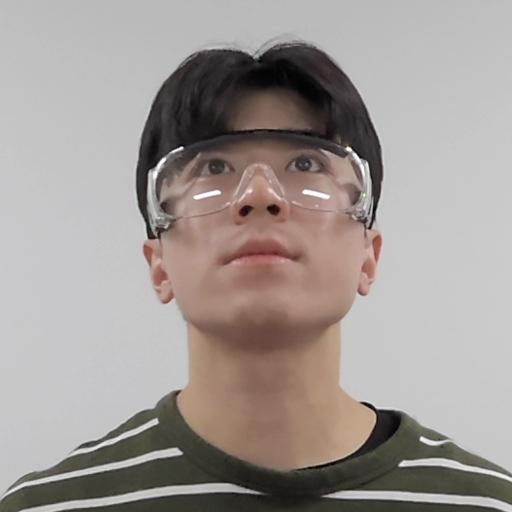glasses: (124, 40, 395, 362)
